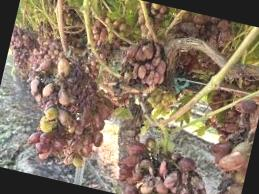Grape Rotten: (0, 0, 259, 194), (0, 22, 126, 173), (116, 34, 172, 92)
